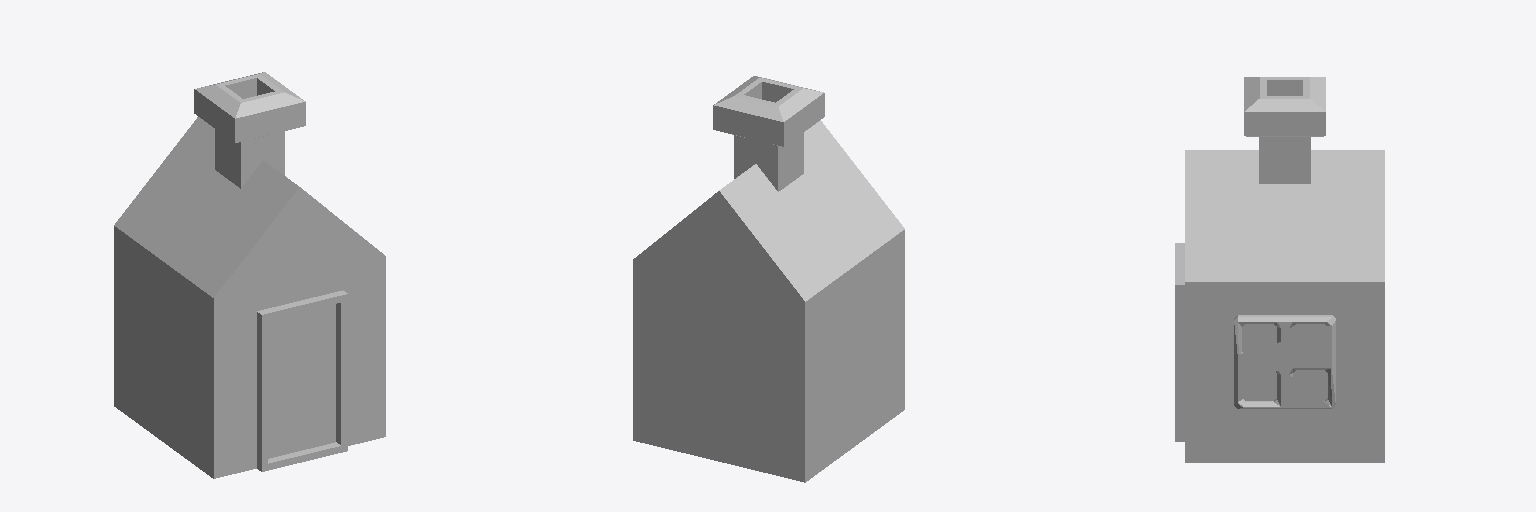
Rendered from house.obj.
The picture shows the model from 3 angles: view 1: azimuth 30°, elevation 25°; view 2: azimuth 150°, elevation 25°; view 3: azimuth 270°, elevation 25°; orthographic projection.
Parts seen in each view (by area): view 1: House_Cube.001; view 2: House_Cube.001; view 3: House_Cube.001.
Boxes of the visible parts, x1,y1,x2,y2 form: House_Cube.001: [114, 72, 385, 478]; House_Cube.001: [633, 76, 904, 482]; House_Cube.001: [1175, 77, 1384, 462].
Size of the model in its own units: 2.77 by 4.91 by 2.8.